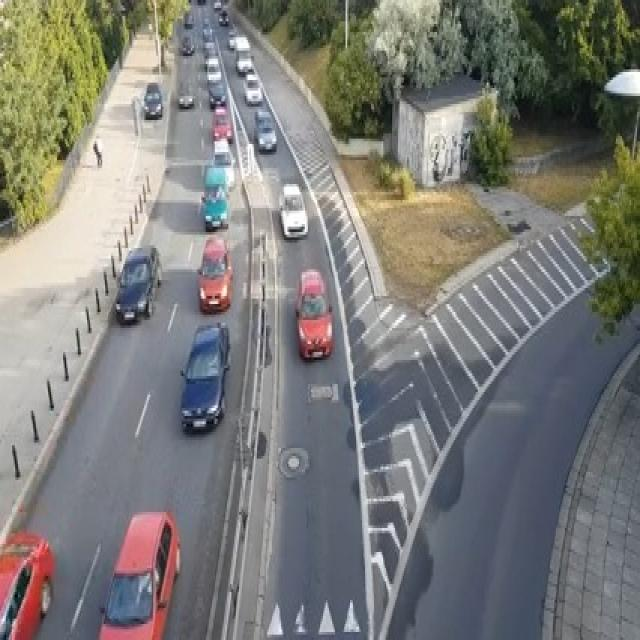car: (96, 510, 180, 638), (0, 528, 54, 637), (179, 320, 230, 432), (112, 242, 160, 322), (294, 267, 332, 360), (197, 235, 233, 312), (278, 182, 308, 238), (200, 184, 228, 229), (212, 136, 234, 187), (252, 107, 276, 152), (203, 165, 228, 198), (210, 104, 232, 141), (143, 80, 162, 117), (242, 72, 261, 104), (207, 80, 227, 107), (206, 56, 221, 83), (235, 53, 252, 75), (234, 35, 250, 56), (177, 90, 194, 106), (180, 35, 194, 53), (227, 27, 237, 48), (218, 8, 228, 24), (184, 8, 192, 27), (203, 24, 212, 40), (212, 0, 221, 11), (203, 16, 210, 27), (197, 0, 206, 3)
